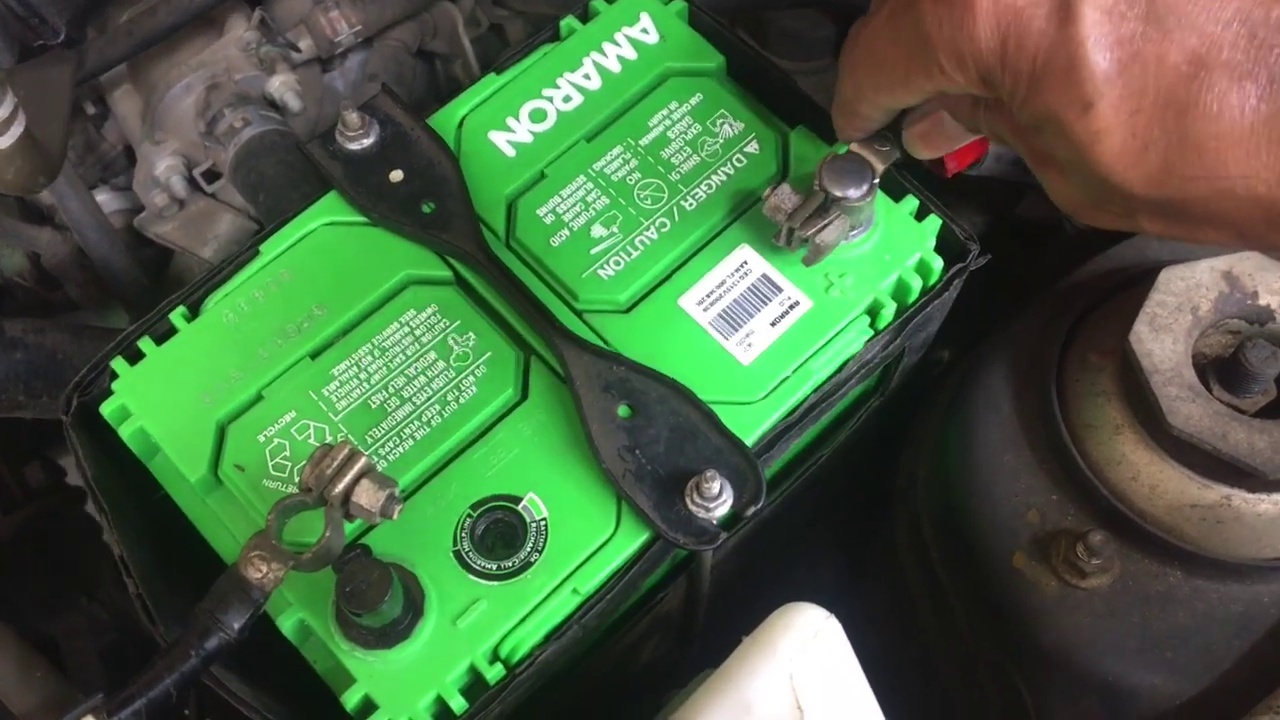battery: (102, 26, 967, 708)
pos_connected: (752, 102, 1002, 255)
pos_touched: (740, 41, 996, 272)
